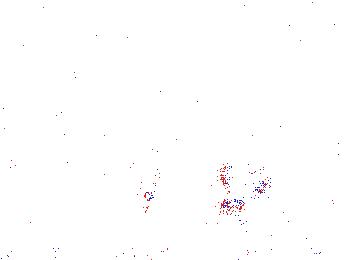flame jellyfish: (271, 173, 346, 228), (220, 150, 267, 210), (133, 143, 178, 202)
